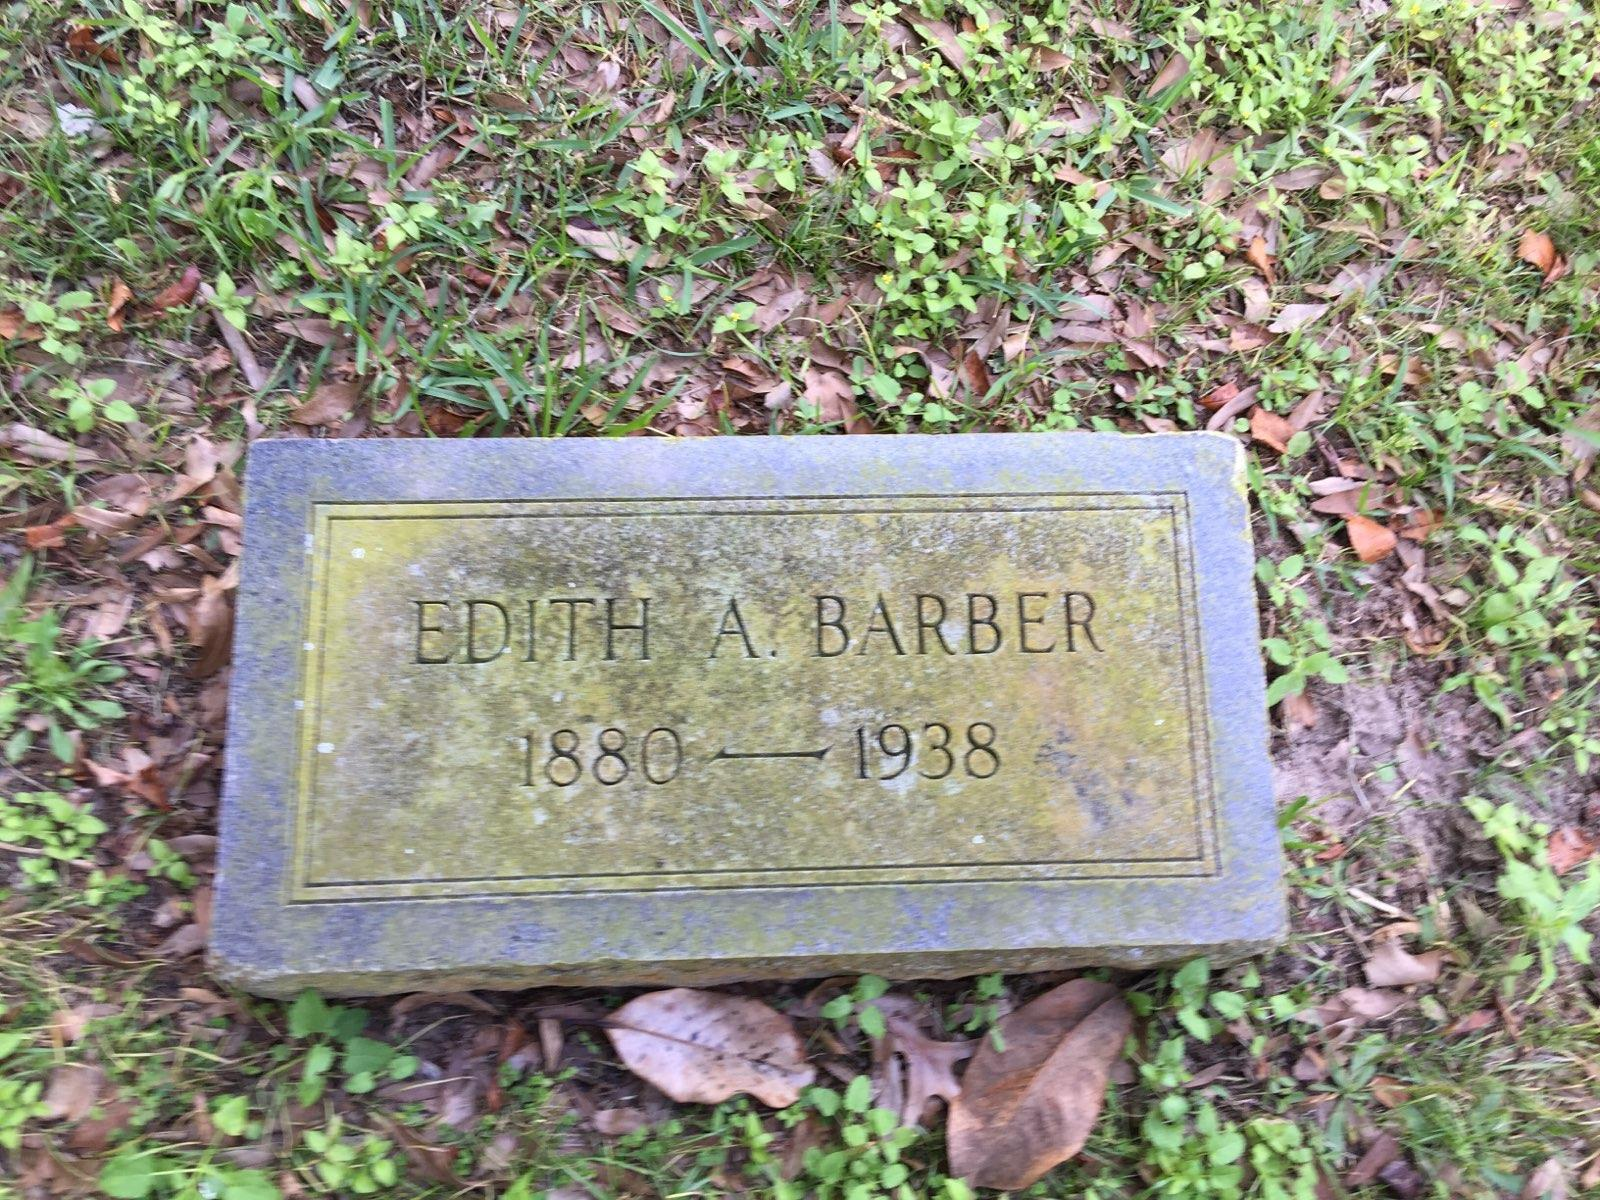flat: (188, 410, 1303, 995)
